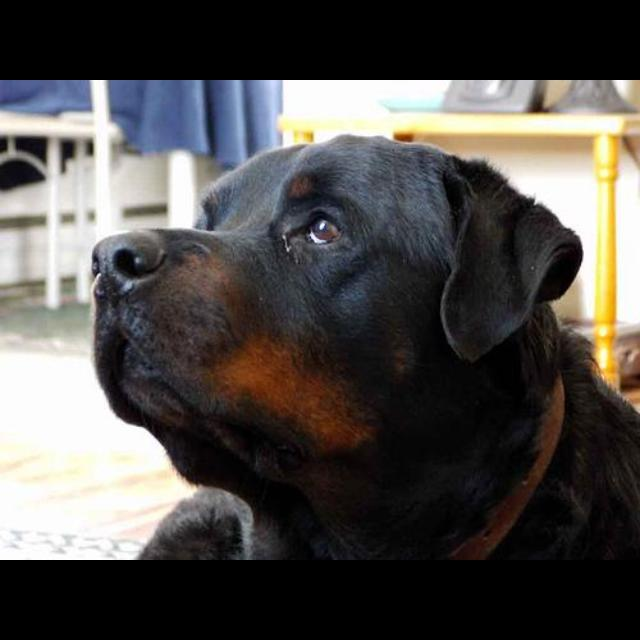rottweiler: (89, 133, 640, 560)
